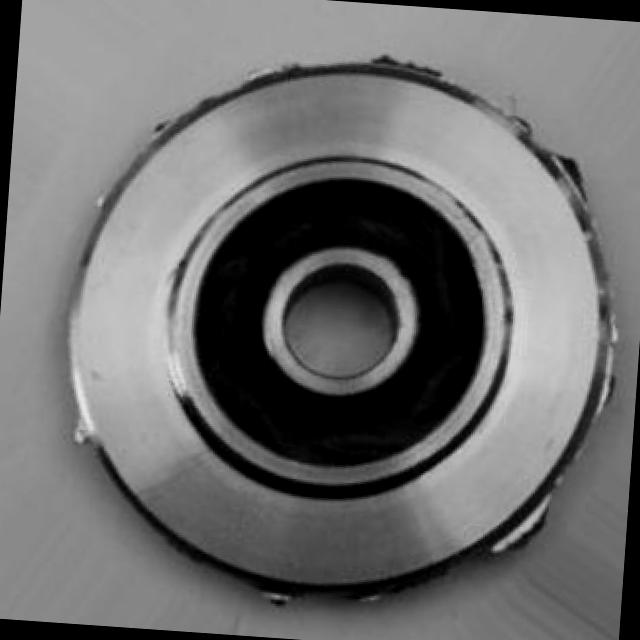Defect: (540, 136, 601, 202)
